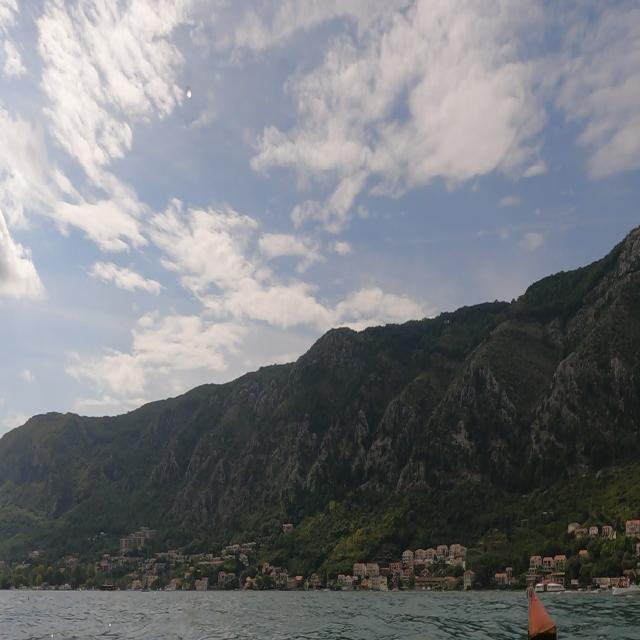buoy: (517, 579, 564, 640)
